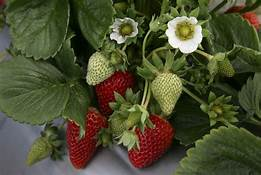Fresa: (63, 102, 111, 171), (127, 109, 177, 171), (92, 66, 135, 117)
